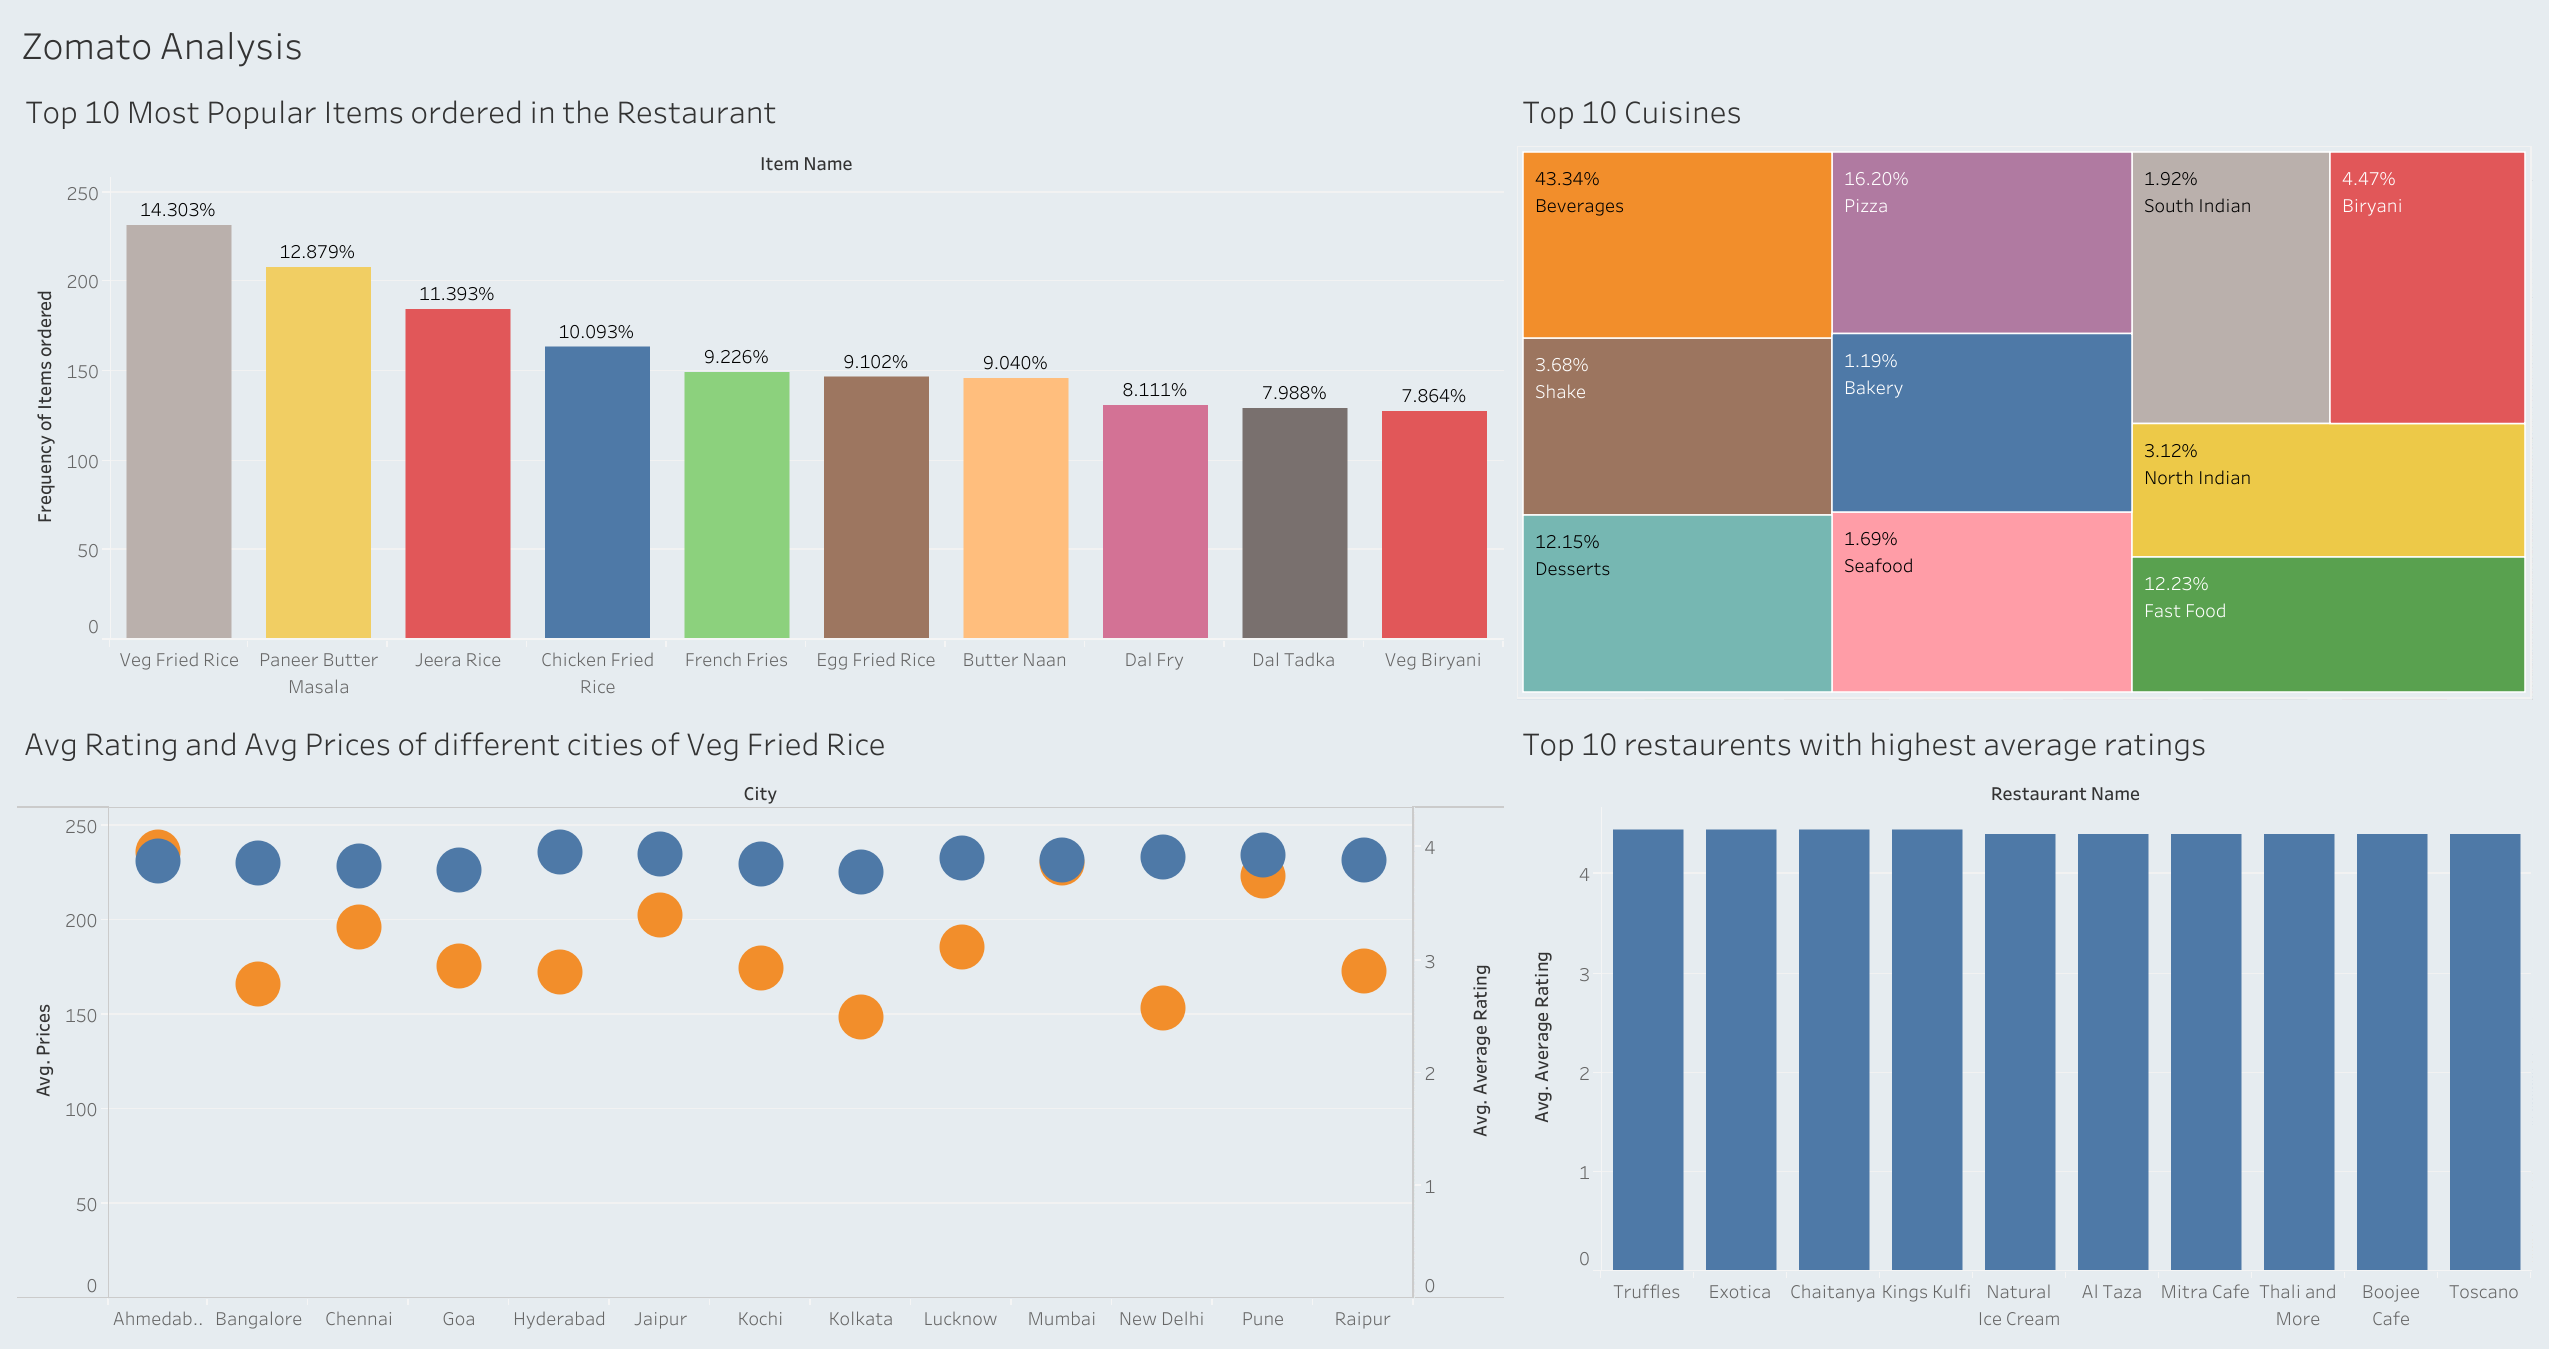

This screenshot's page, from the dashboard's own definition file:
{"tool":"tableau","page":{"name":"Dashboard 3","canvas":[1700,900],"ordinal":2},"visuals":[{"type":"title","box":[8,8,1684,58]},{"type":"worksheet","title":"Sheet 2","mark":"Automatic","rows":["Item Name"],"cols":["Item Name"],"box":[8,66,999,413]},{"type":"worksheet","title":"Sheet 9","mark":"Automatic","box":[1007,66,685,413]},{"type":"worksheet","title":"Sheet 10","mark":"Circle","rows":["Prices","Average Rating"],"cols":["City"],"box":[8,479,999,413]},{"type":"worksheet","title":"Sheet 11","mark":"Bar","rows":["Average Rating"],"cols":["Restaurant Name"],"box":[1007,479,685,413]}]}

Visuals, with their boxes in screenshot pixels (x1, y1, x2, y2), scaled from the page's 1700x900 canvas onto the 2549x1349 screenshot:
title: (x1=12, y1=12, x2=2537, y2=99)
"Sheet 2" worksheet: (x1=12, y1=99, x2=1510, y2=718)
"Sheet 9" worksheet: (x1=1510, y1=99, x2=2537, y2=718)
"Sheet 10" worksheet (Circle marks): (x1=12, y1=718, x2=1510, y2=1337)
"Sheet 11" worksheet (Bar marks): (x1=1510, y1=718, x2=2537, y2=1337)
